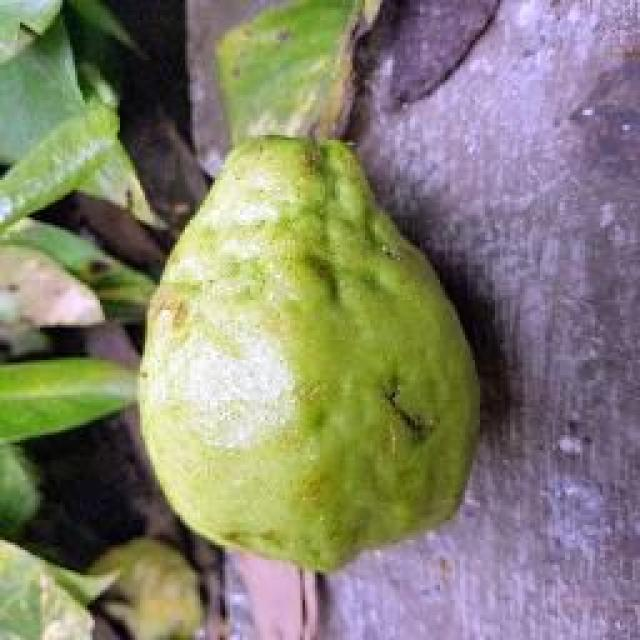Good_Guava: (135, 135, 482, 578)
